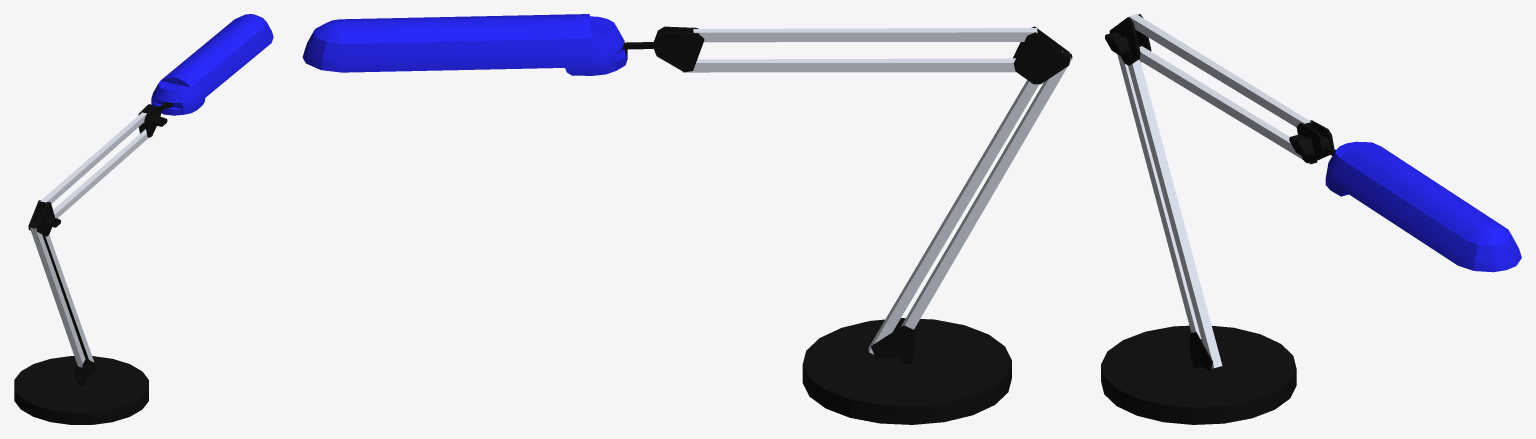
The model's file is TaskLight.obj.
3 renders of one model, left to right at view 1: azimuth 30°, elevation 25°; view 2: azimuth 150°, elevation 25°; view 3: azimuth 270°, elevation 25°, orthographic. The views are drawn at different scales.
Parts seen in each view (by area): view 1: group_quadlamps_56, group_BluePlastic, group_metal; view 2: group_quadlamps_56, group_metal, group_BluePlastic; view 3: group_quadlamps_56, group_metal, group_BluePlastic.
Part boxes in pixels (<box>): group_quadlamps_56: <box>14,102,172,424</box>; group_BluePlastic: <box>151,14,273,115</box>; group_metal: <box>30,112,148,367</box>; group_quadlamps_56: <box>622,26,1072,424</box>; group_metal: <box>682,28,1071,354</box>; group_BluePlastic: <box>302,14,627,75</box>; group_quadlamps_56: <box>1101,14,1335,424</box>; group_metal: <box>1117,14,1310,368</box>; group_BluePlastic: <box>1325,141,1521,272</box>.
Size of the model in its own units: 0.7007 by 0.437 by 0.4815.
